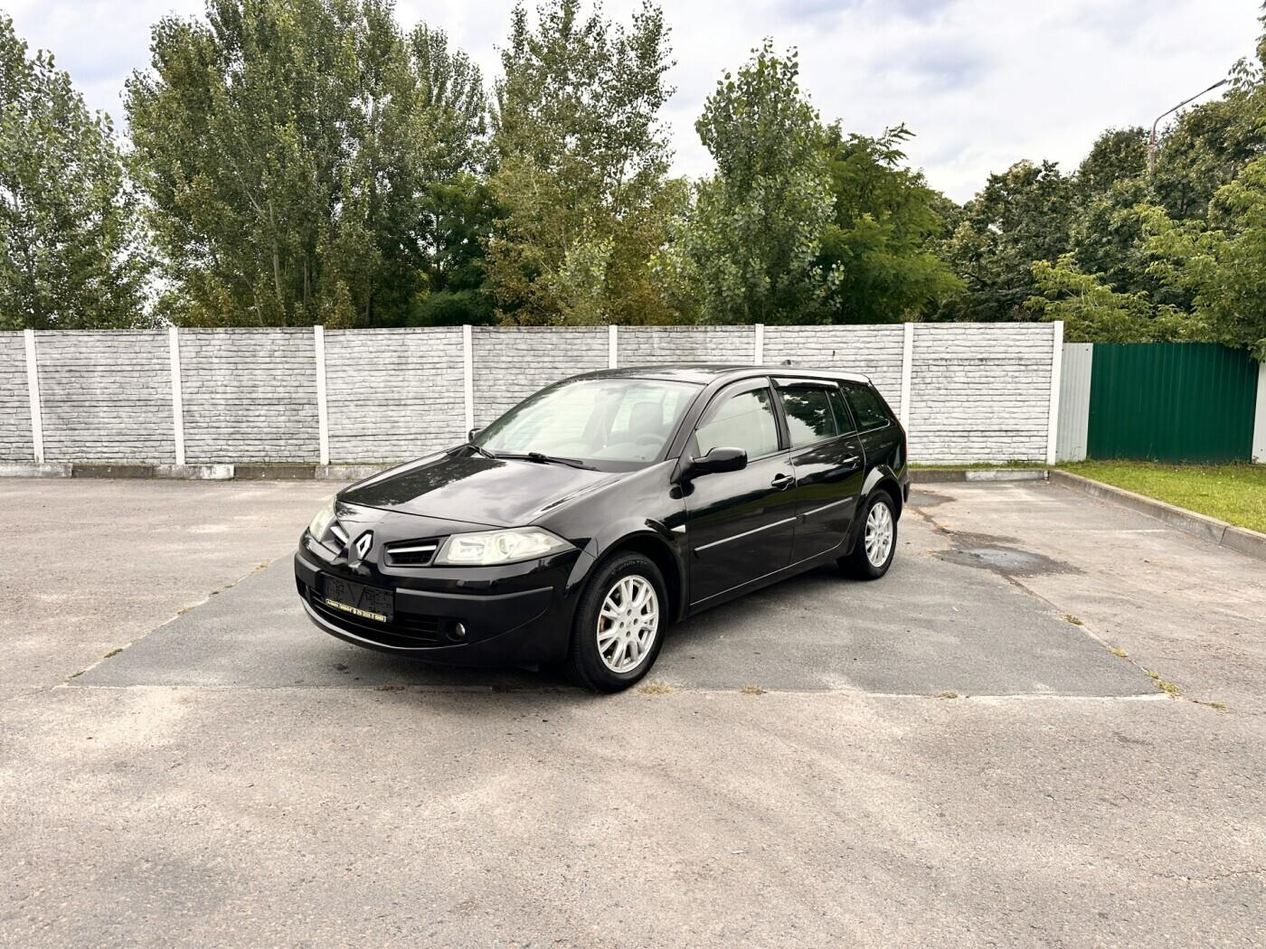Megane_2005-2009: (288, 363, 917, 706)
